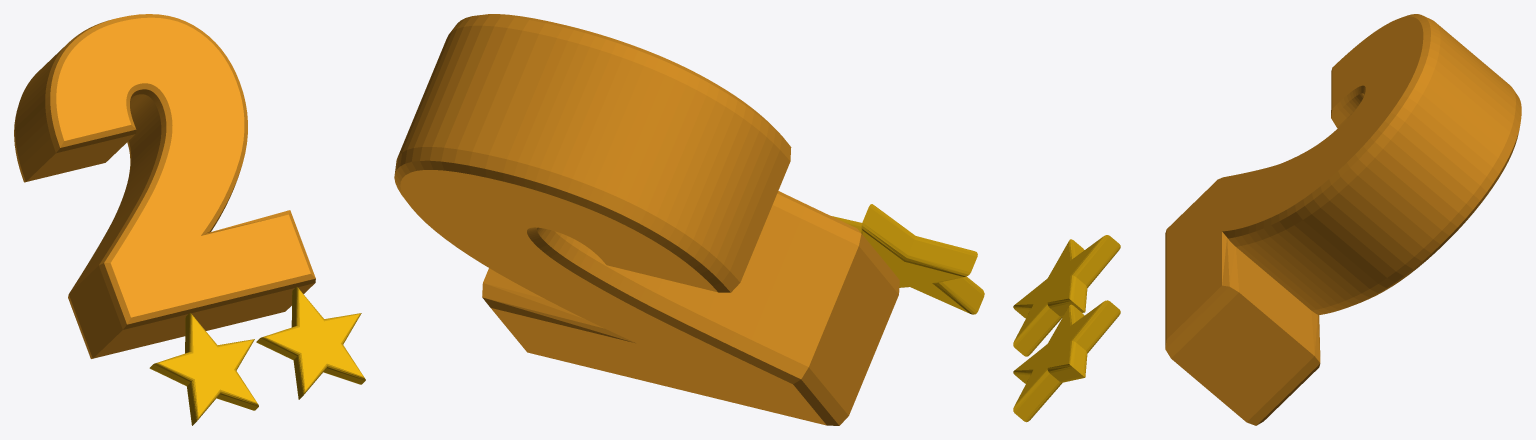
The model's file is num_2.glb.
3 renders of one model, left to right at view 1: azimuth 30°, elevation 25°; view 2: azimuth 150°, elevation 25°; view 3: azimuth 270°, elevation 25°, orthographic. The views are drawn at different scales.
Bounding box in the file's own units: 0.8192 × 1.01 × 1.38.
